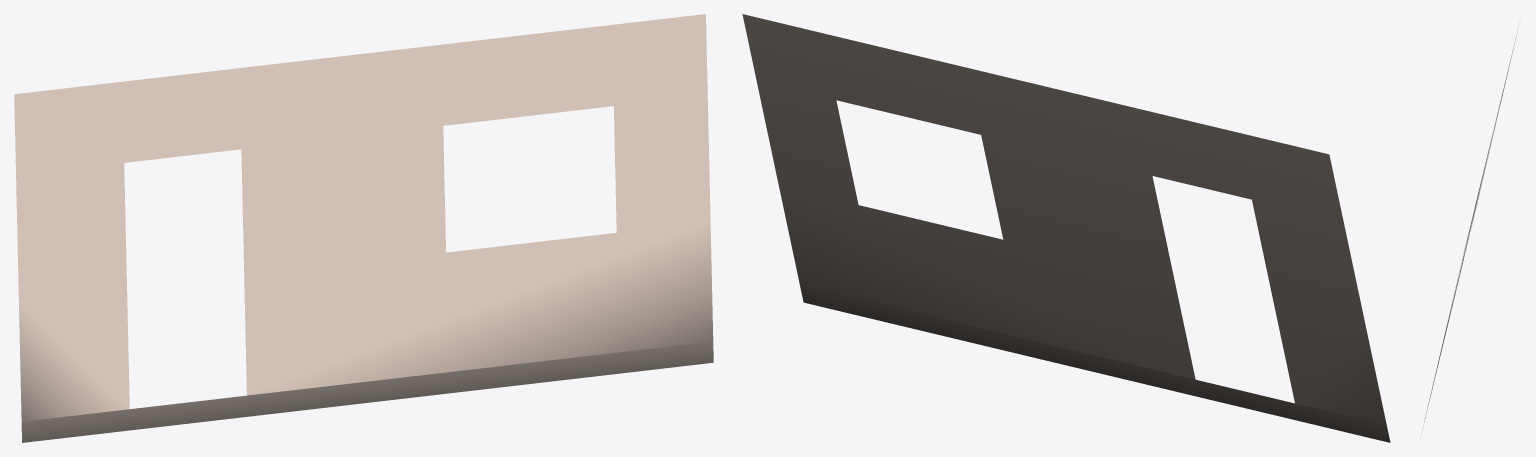
The model's file is KOUI08.glb.
The picture shows the model from 3 angles, left to right: view 1: azimuth 30°, elevation 25°; view 2: azimuth 150°, elevation 25°; view 3: azimuth 270°, elevation 25°; orthographic projection. The views are drawn at different scales.
Parts seen in each view (by area): view 1: FRAME_ROOT; view 2: FRAME_ROOT; view 3: FRAME_ROOT.
Boxes of the visible parts, left/top/right/bottom form: FRAME_ROOT: left=14, top=14, right=713, bottom=442; FRAME_ROOT: left=742, top=14, right=1390, bottom=442; FRAME_ROOT: left=1422, top=27, right=1518, bottom=429.
Size of the model in its own units: 15.5 by 7.93 by 3.15.
Materials: 1 (1 with a texture image).
